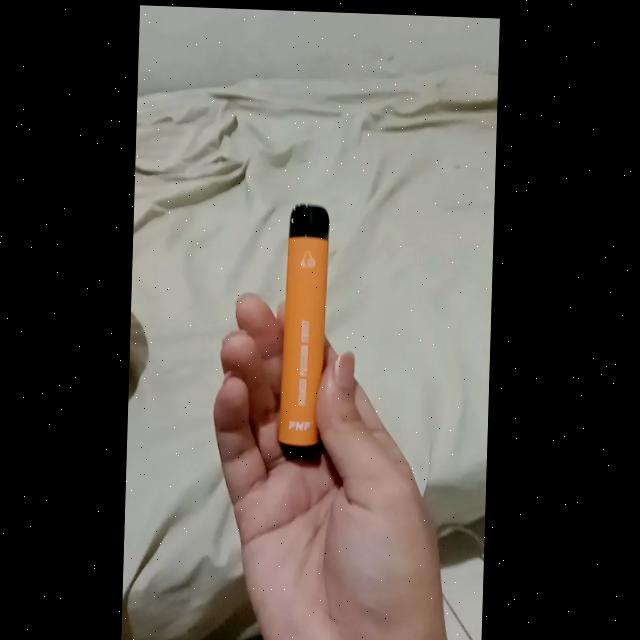vape: (278, 202, 335, 446)
